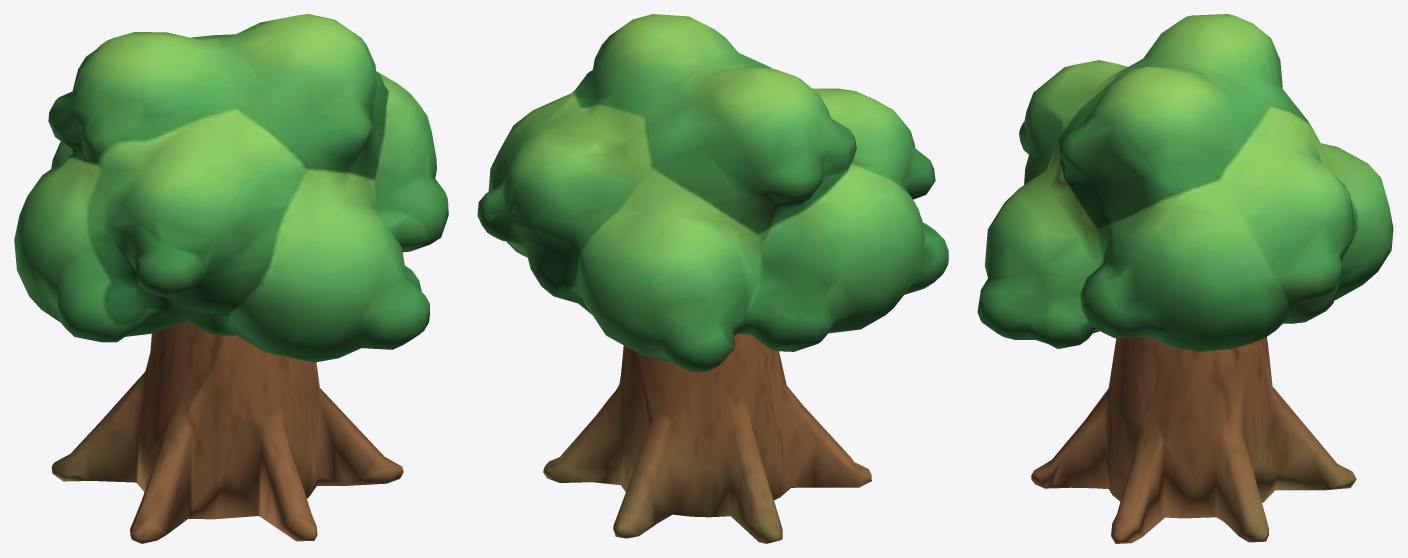
The model's file is ancient-oak.glb.
3 views of the same model, side by side, from view 1: azimuth 30°, elevation 25°; view 2: azimuth 150°, elevation 25°; view 3: azimuth 270°, elevation 25° (orthographic). The views are drawn at different scales.
Visible parts, largest first — view 1: trunk; view 2: trunk; view 3: trunk.
Part boxes in pixels (x1=…): trunk: x1=14, y1=14, x2=448, y2=543; trunk: x1=477, y1=14, x2=948, y2=543; trunk: x1=977, y1=14, x2=1393, y2=543.
Bounding box in the file's own units: 5.11 × 5.34 × 4.64.
1 material, 1 textured.
